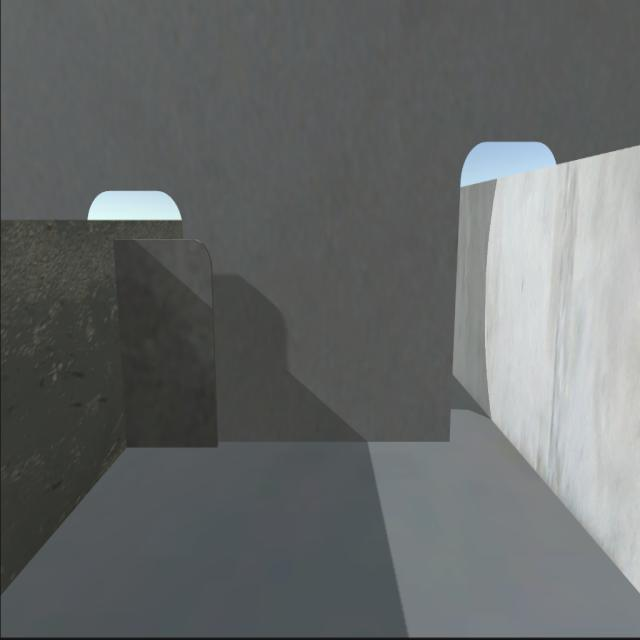fillet_yong_jeop_jang: (127, 431, 450, 449)
longi_yong_jeop_jang: (109, 239, 134, 450)
plate_CP05: (116, 238, 218, 450)
